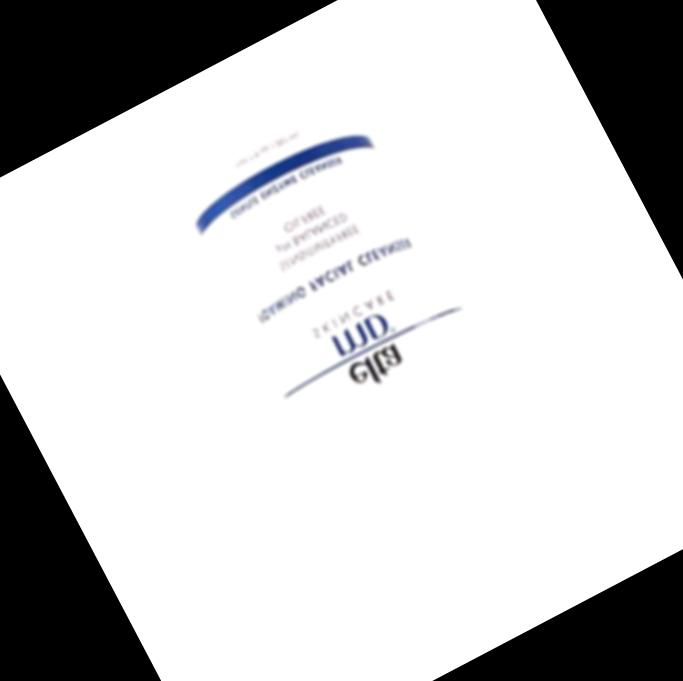cosmetic: (162, 62, 585, 628)
